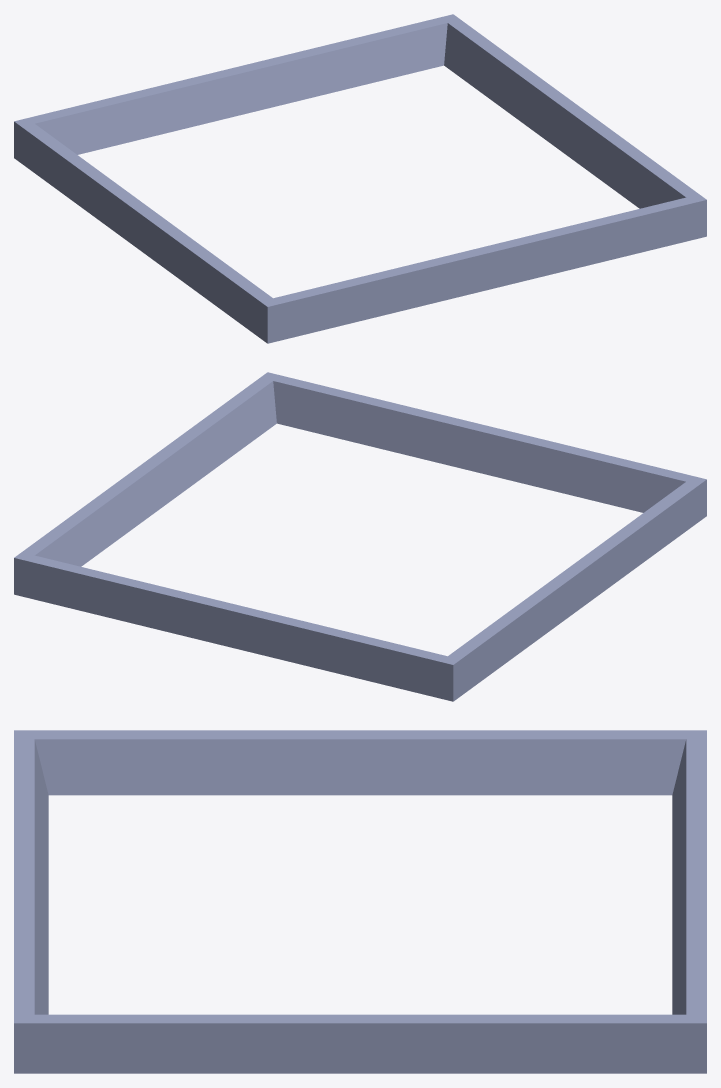
File: road-square-barrier.glb
The picture shows the model from 3 angles, top to bottom: view 1: azimuth 30°, elevation 25°; view 2: azimuth 150°, elevation 25°; view 3: azimuth 270°, elevation 25°; orthographic projection. The views are drawn at different scales.
Visible parts, largest first — view 1: road-square-barrier; view 2: road-square-barrier; view 3: road-square-barrier.
Boxes of the visible parts, left/top/right/bottom form: road-square-barrier: left=14, top=14, right=706, bottom=343; road-square-barrier: left=14, top=372, right=706, bottom=701; road-square-barrier: left=14, top=730, right=706, bottom=1073.
Size of the model in its own units: 1 by 0.08 by 1.
Materials: 1 (1 with a texture image).
